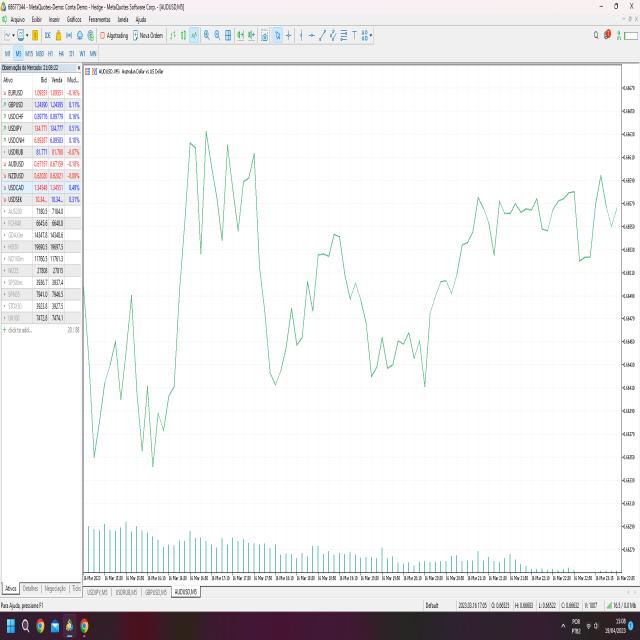oco_inv: (132, 360, 186, 480)
